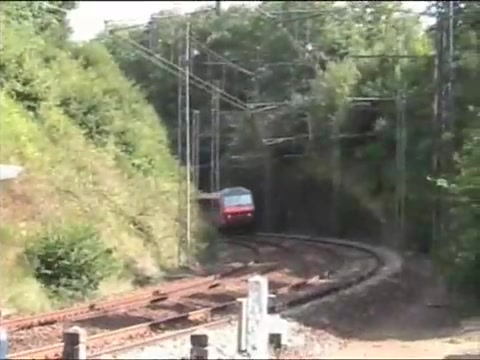train: (198, 186, 257, 235)
